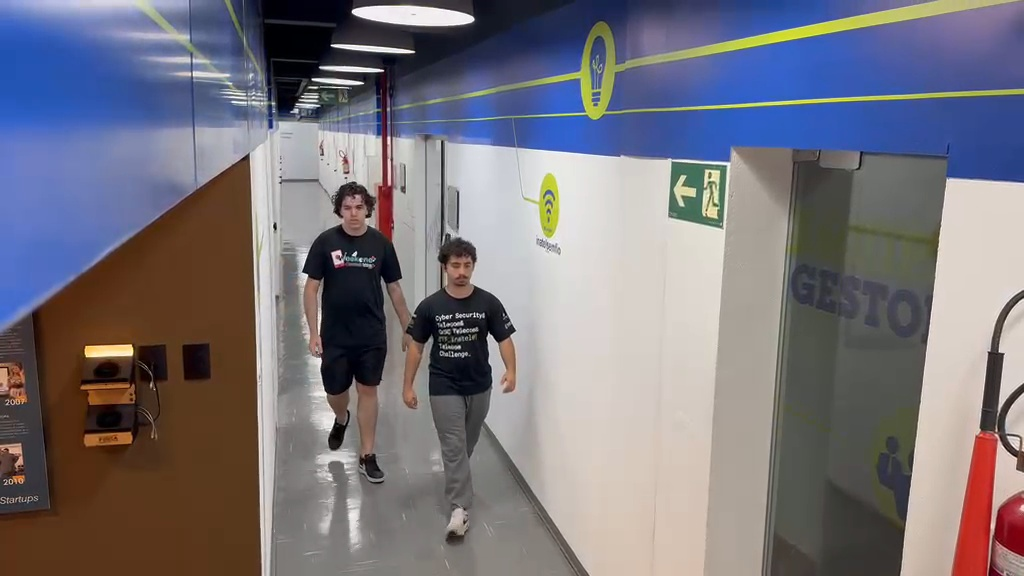person: (402, 237, 518, 543), (300, 182, 411, 481)
